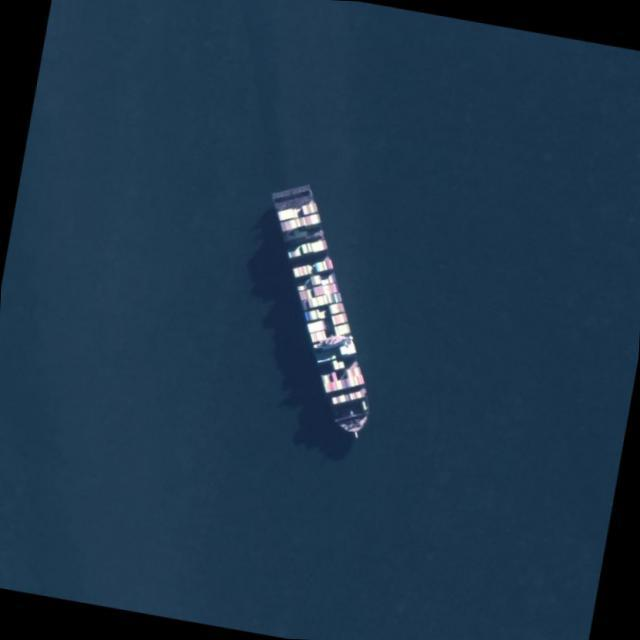ship: (301, 182, 349, 441)
